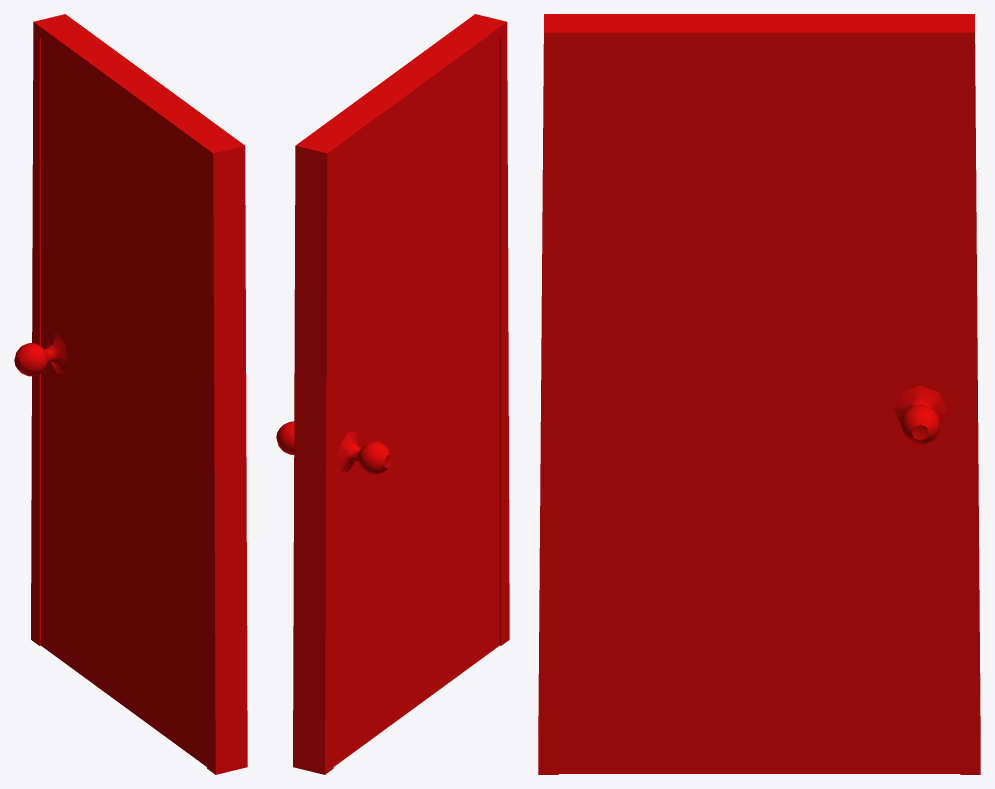
The model's file is u2_door.fbx.
3 views of the same model, side by side, from view 1: azimuth 30°, elevation 25°; view 2: azimuth 150°, elevation 25°; view 3: azimuth 270°, elevation 25° (orthographic). The views are drawn at different scales.
Parts seen in each view (by area): view 1: door_low.001, door nalichnik_low, door handle_low.001; view 2: door_low.001, door nalichnik_low, door handle_low.001; view 3: door_low.001, door nalichnik_low, door handle_low.001.
Part boxes in pixels (box(x1,y1,x2,y2)): door_low.001: box(41, 38, 206, 766); door nalichnik_low: box(31, 14, 247, 774); door handle_low.001: box(14, 333, 68, 376); door_low.001: box(333, 38, 499, 766); door nalichnik_low: box(293, 14, 509, 774); door handle_low.001: box(276, 421, 391, 474); door_low.001: box(558, 46, 960, 773); door nalichnik_low: box(538, 14, 980, 774); door handle_low.001: box(894, 385, 946, 444).
Size of the model in its own units: 37.25 by 204 by 110.
